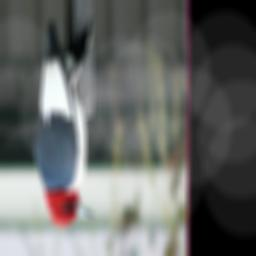Woodpecker: (33, 12, 95, 233)
